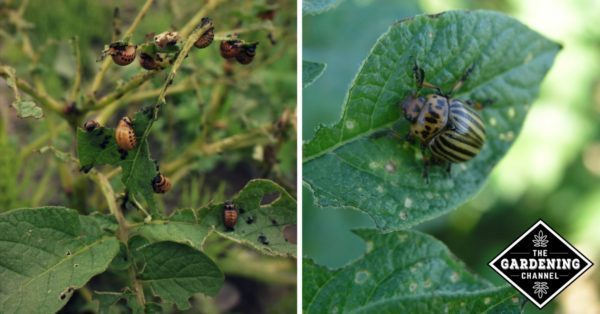hrosc: (389, 69, 500, 168)
